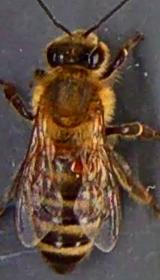varroa_mite: (64, 150, 94, 176)
